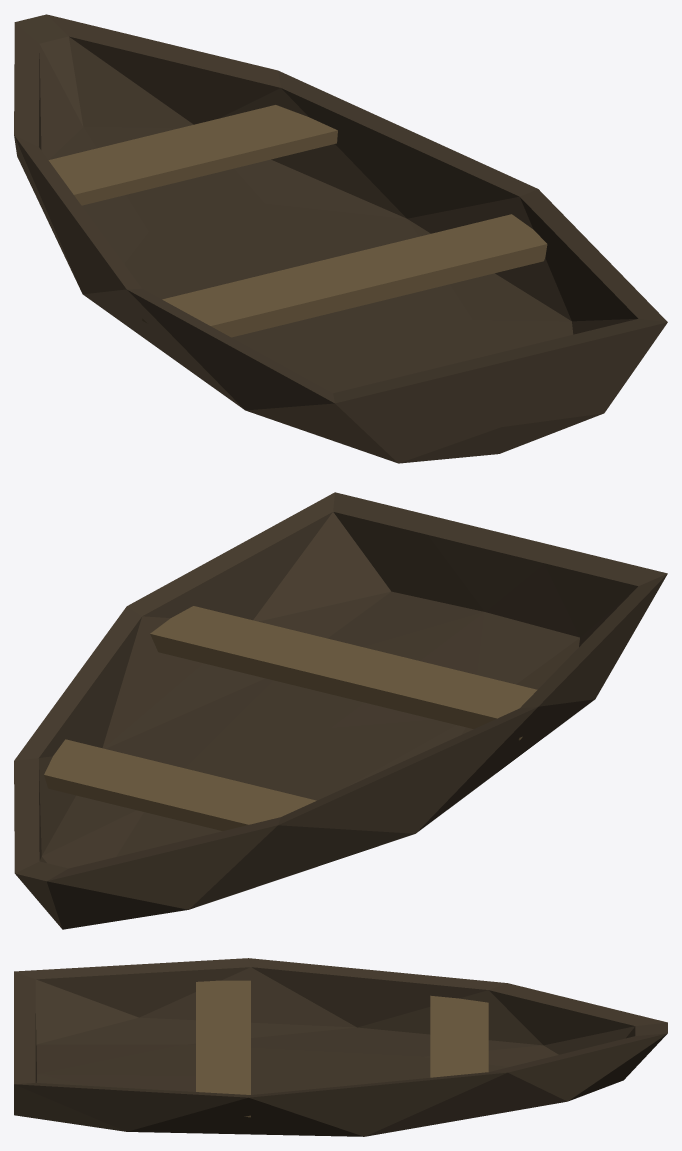
Rendered from roman_boat_row.fbx.
The picture shows the model from 3 angles, top to bottom: view 1: azimuth 30°, elevation 25°; view 2: azimuth 150°, elevation 25°; view 3: azimuth 270°, elevation 25°; orthographic projection. The views are drawn at different scales.
Visible parts, largest first — view 1: Icosphere.005; view 2: Icosphere.005; view 3: Icosphere.005.
Part boxes in pixels (x1,y1,x2,y2): Icosphere.005: (14,14,667,463); Icosphere.005: (14,492,667,929); Icosphere.005: (14,958,667,1136).
Bounding box in the file's own units: 1.63 × 0.4276 × 3.24.
